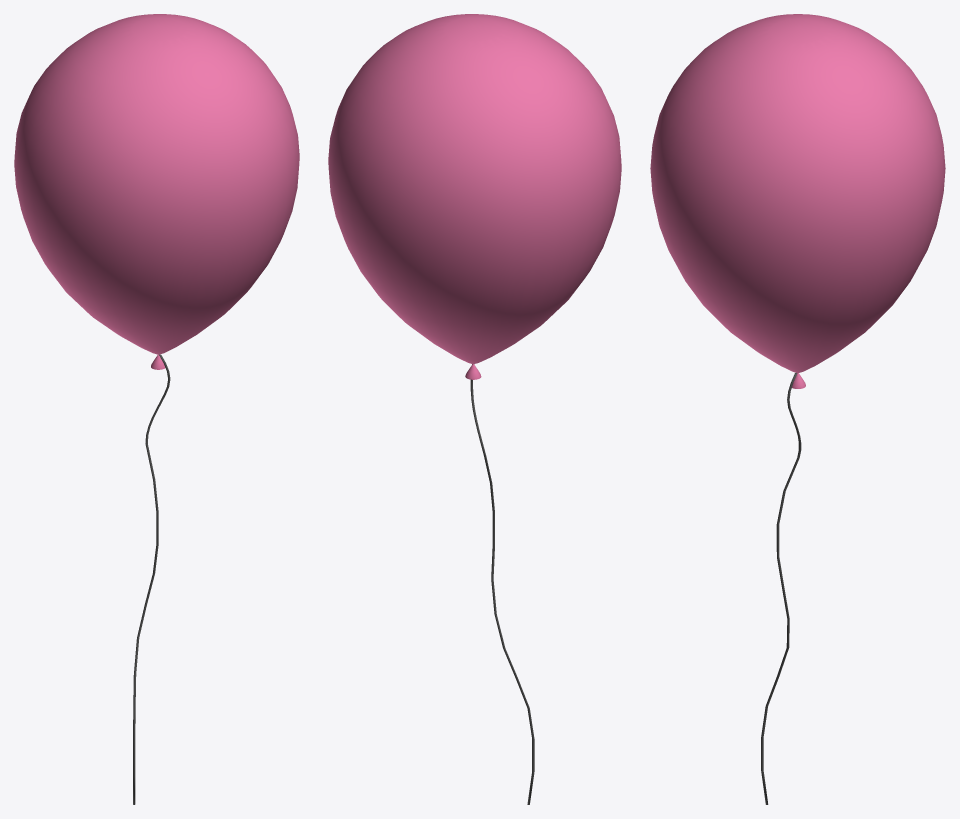
The model's file is balloon.glb.
3 views of the same model, side by side, from view 1: azimuth 30°, elevation 25°; view 2: azimuth 150°, elevation 25°; view 3: azimuth 270°, elevation 25° (orthographic). The views are drawn at different scales.
Parts seen in each view (by area): view 1: Balloon, Thread; view 2: Balloon, Thread; view 3: Balloon, Thread.
Boxes of the visible parts, x1,y1,x2,y2 form: Balloon: [14, 14, 299, 369]; Thread: [133, 354, 170, 804]; Balloon: [328, 14, 621, 379]; Thread: [470, 364, 534, 804]; Balloon: [650, 14, 945, 388]; Thread: [761, 373, 801, 804].
Bounding box in the file's own units: 0.2446 × 0.7137 × 0.2396.
